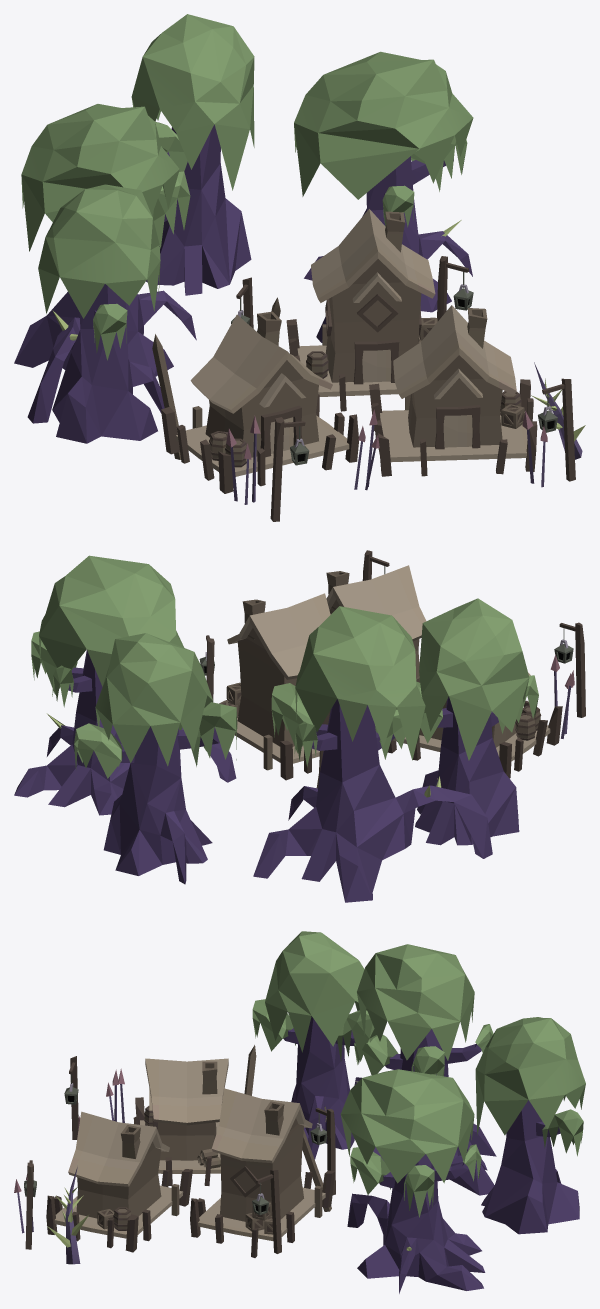
The model's file is townSwamp2.fbx.
3 renders of one model, top to bottom at view 1: azimuth 30°, elevation 25°; view 2: azimuth 150°, elevation 25°; view 3: azimuth 270°, elevation 25°, orthographic. The views are drawn at different scales.
Parts seen in each view (by area): view 1: townSwamp2; view 2: townSwamp2; view 3: townSwamp2.
Part boxes in pixels (bbox=[...]): townSwamp2: bbox=[14, 14, 585, 521]; townSwamp2: bbox=[14, 550, 585, 902]; townSwamp2: bbox=[14, 931, 585, 1293].
Size of the model in its own units: 6.07 by 3.32 by 7.68.
2 materials, 2 textured.
